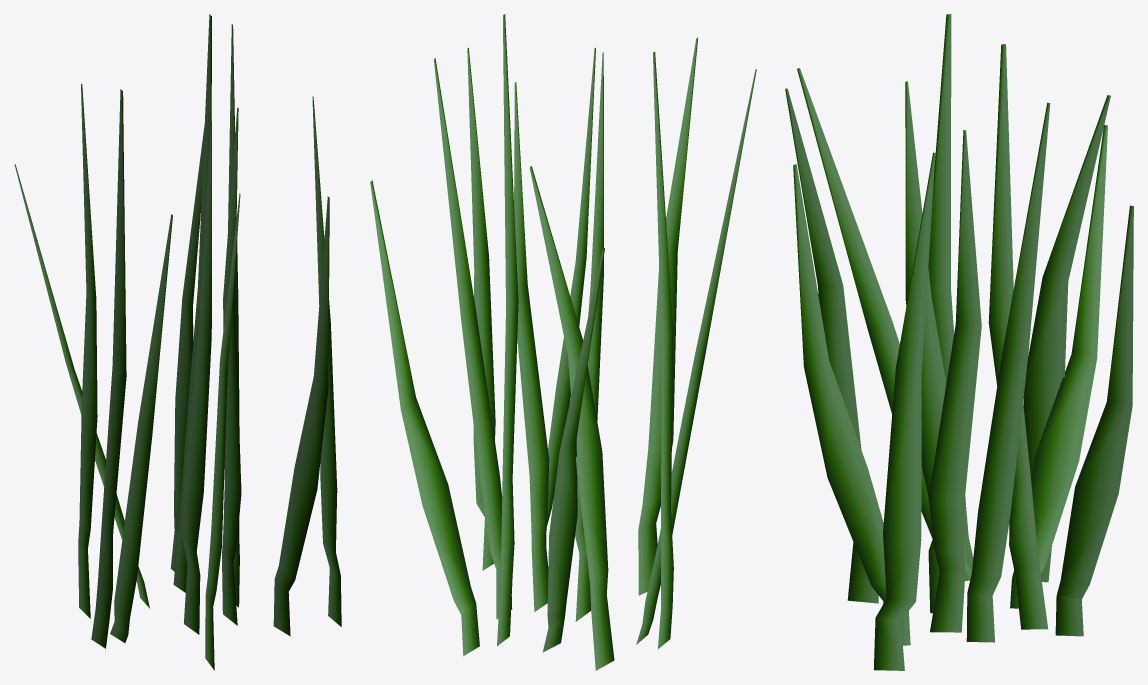
The model's file is GAMEJAMPUFFER - Grass 3.fbx.
3 renders of one model, left to right at view 1: azimuth 30°, elevation 25°; view 2: azimuth 150°, elevation 25°; view 3: azimuth 270°, elevation 25°, orthographic. The views are drawn at different scales.
Visible parts, largest first — view 1: Plane.021; view 2: Plane.021; view 3: Plane.021.
Boxes of the visible parts, <box> form: Plane.021: <box>14,14,341,670</box>; Plane.021: <box>370,14,756,670</box>; Plane.021: <box>785,14,1133,670</box>.
Size of the model in its own units: 114 by 296 by 158.
1 material, 1 textured.
